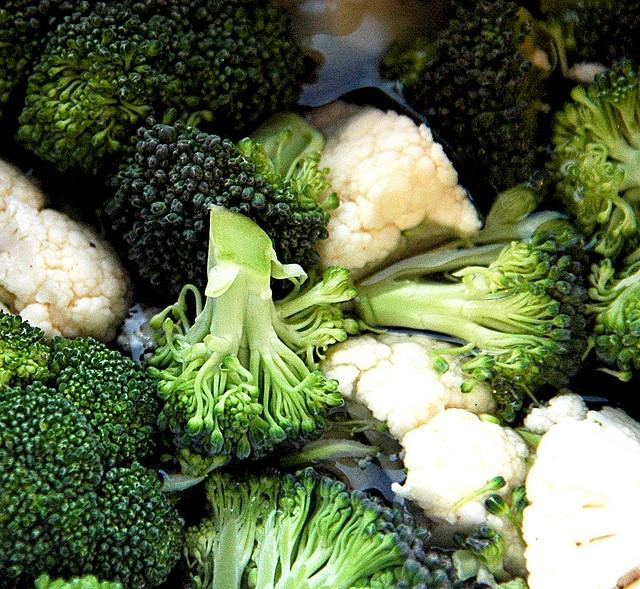broccoli: (148, 204, 360, 481), (2, 310, 185, 587), (352, 186, 590, 392), (103, 116, 340, 296), (378, 4, 558, 203), (16, 4, 200, 188), (183, 467, 434, 589), (552, 57, 640, 370), (133, 0, 320, 146), (0, 0, 74, 113), (540, 0, 640, 78)
cauliflower: (304, 99, 482, 274), (391, 408, 538, 580), (0, 159, 134, 347), (521, 406, 640, 589), (320, 333, 498, 438), (118, 303, 164, 364), (548, 394, 590, 424)
